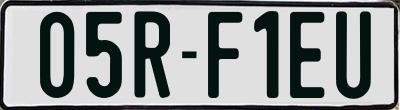0: (38, 9, 72, 95)
1: (251, 8, 278, 98)
5: (86, 11, 128, 103)
E: (289, 12, 325, 98)
F: (206, 11, 242, 99)
R: (132, 8, 170, 100)
U: (335, 8, 370, 97)
